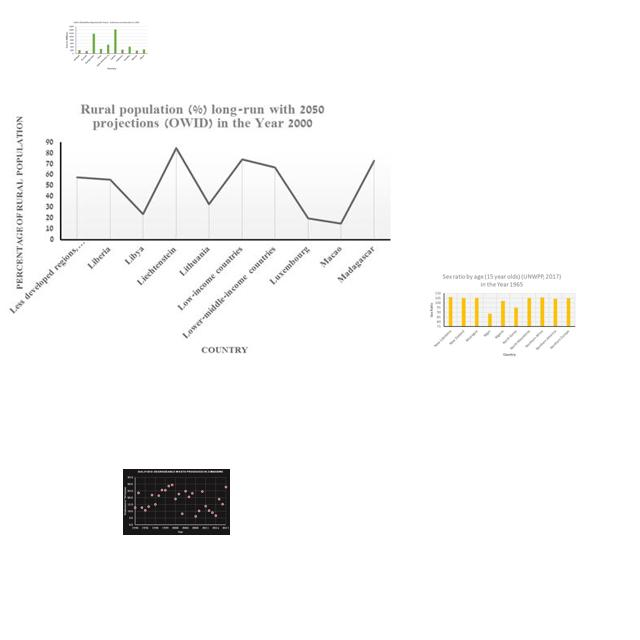Graph: (5, 98, 398, 359), (426, 271, 577, 358), (123, 469, 230, 535), (64, 20, 149, 72)
